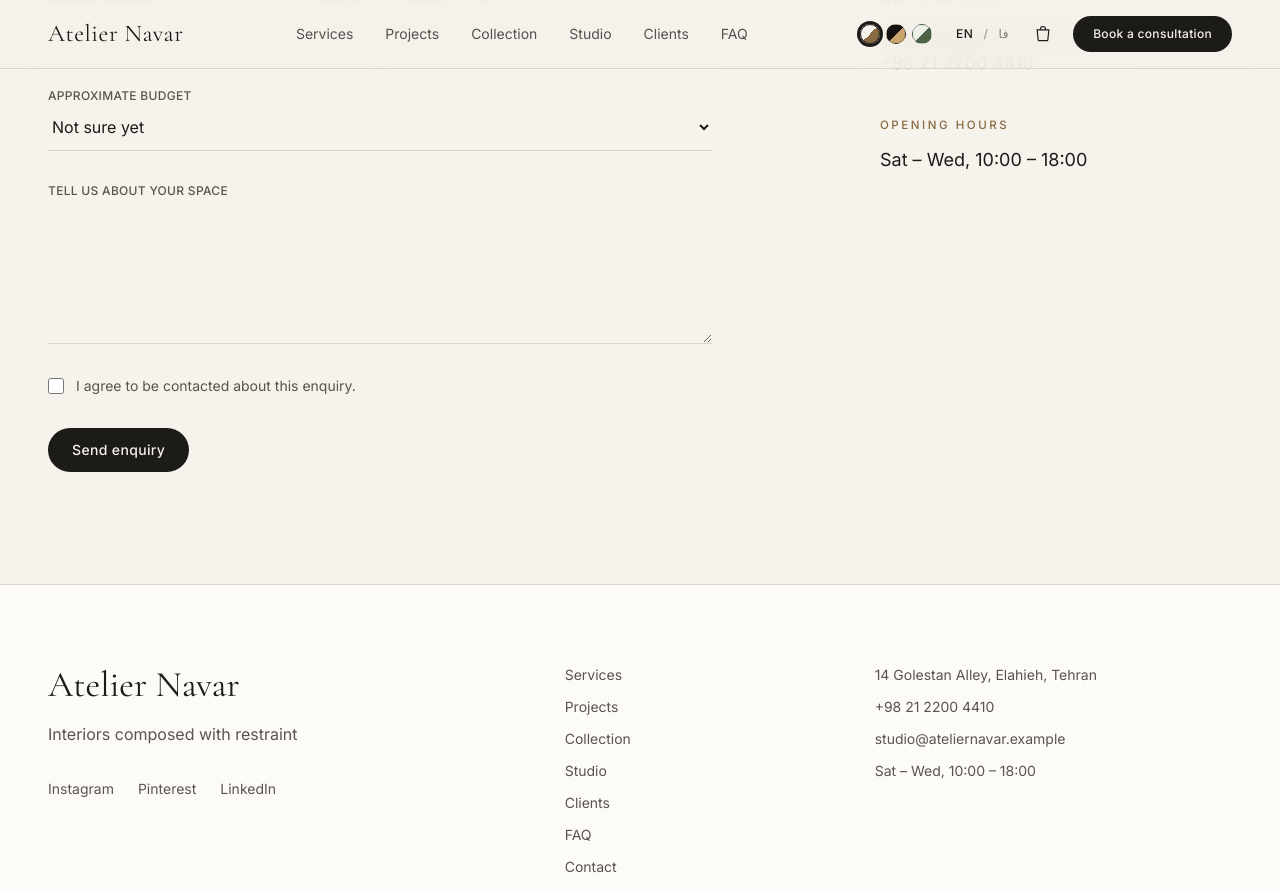
it: contact form (no API configured) › shows validation errors for an empty submission
(page scrolled)
Click the button "Send enquiry" at (119, 450), box left=48, top=428, right=189, bottom=472
(page scrolled)
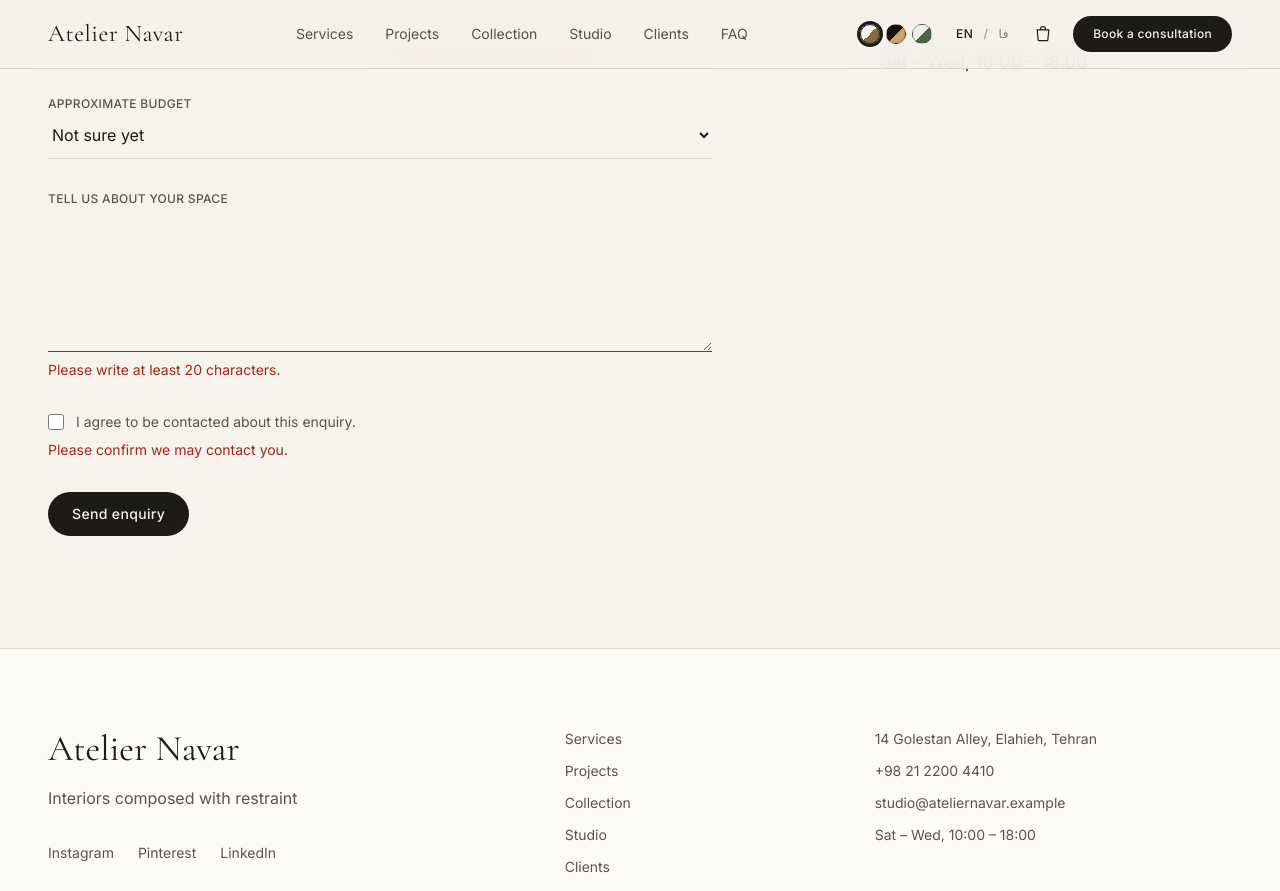
expect the text "Please confirm we may contact you." is shown: met, box left=48, top=441, right=288, bottom=458
